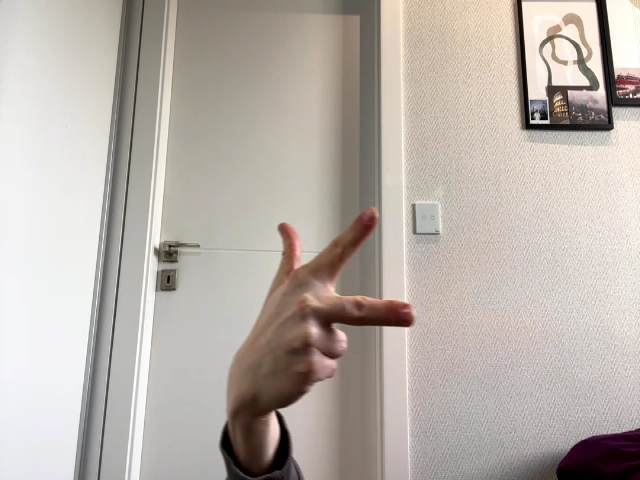K: (250, 207, 416, 402)
